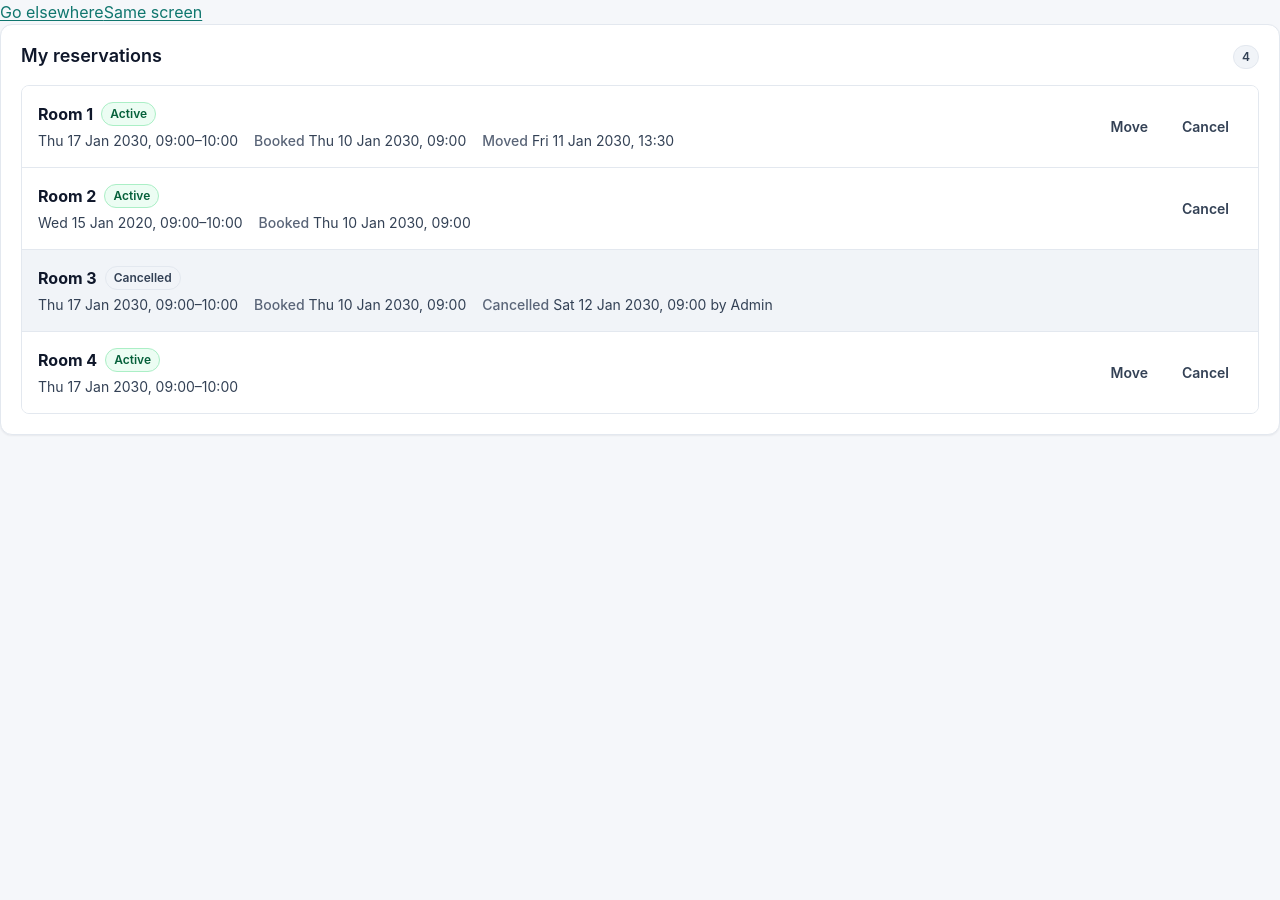
Test: MyReservationsPage › cancels with the version that was shown, and explains a conflict
Expected: the text "Room 1" is shown, [38,102,93,126]
Step 1. Click the button with aria-label "Cancel Room 1" → (1206, 126), box [1169,110,1242,142]
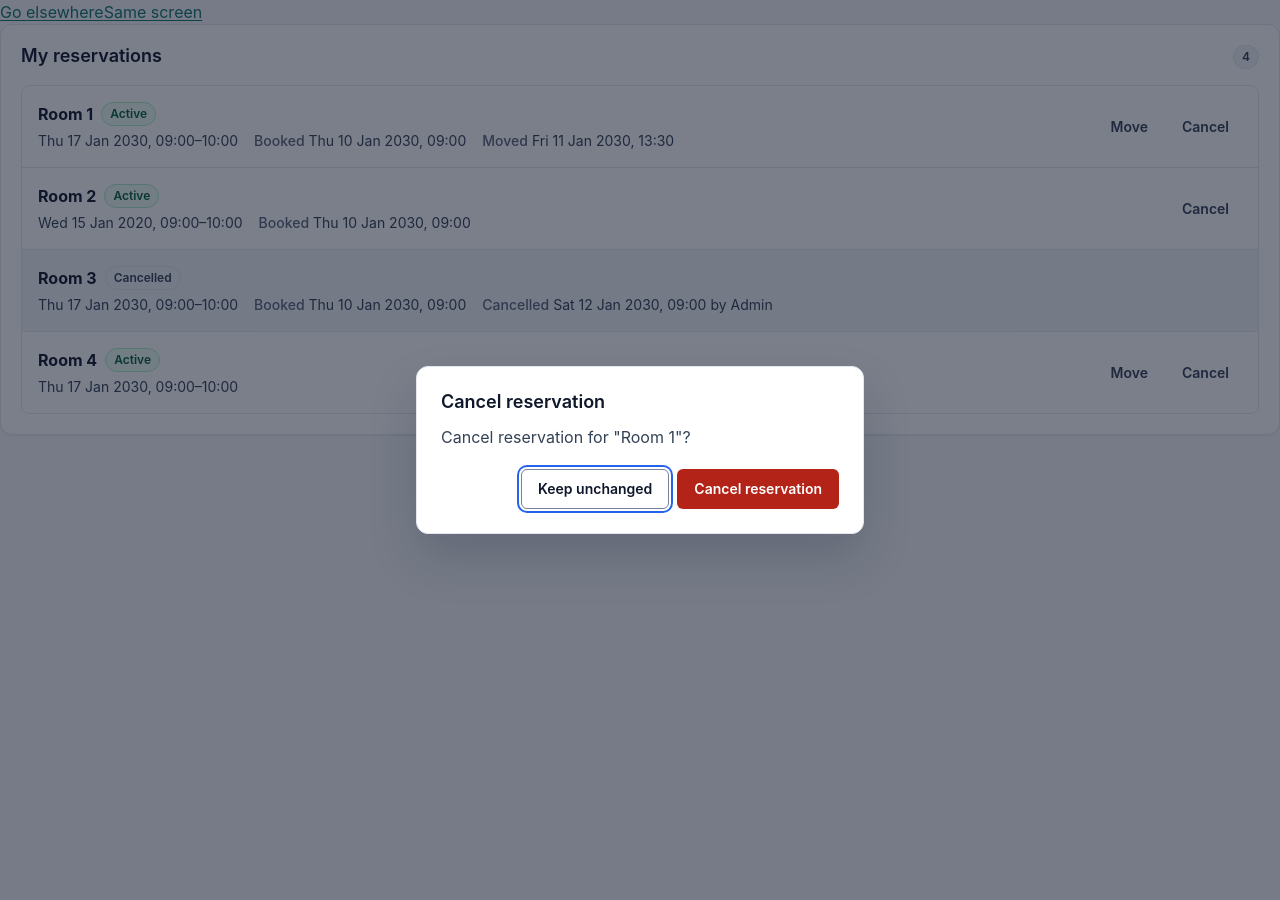
Step 2. Click the button "Cancel reservation" → (758, 489), box [677,469,839,509]
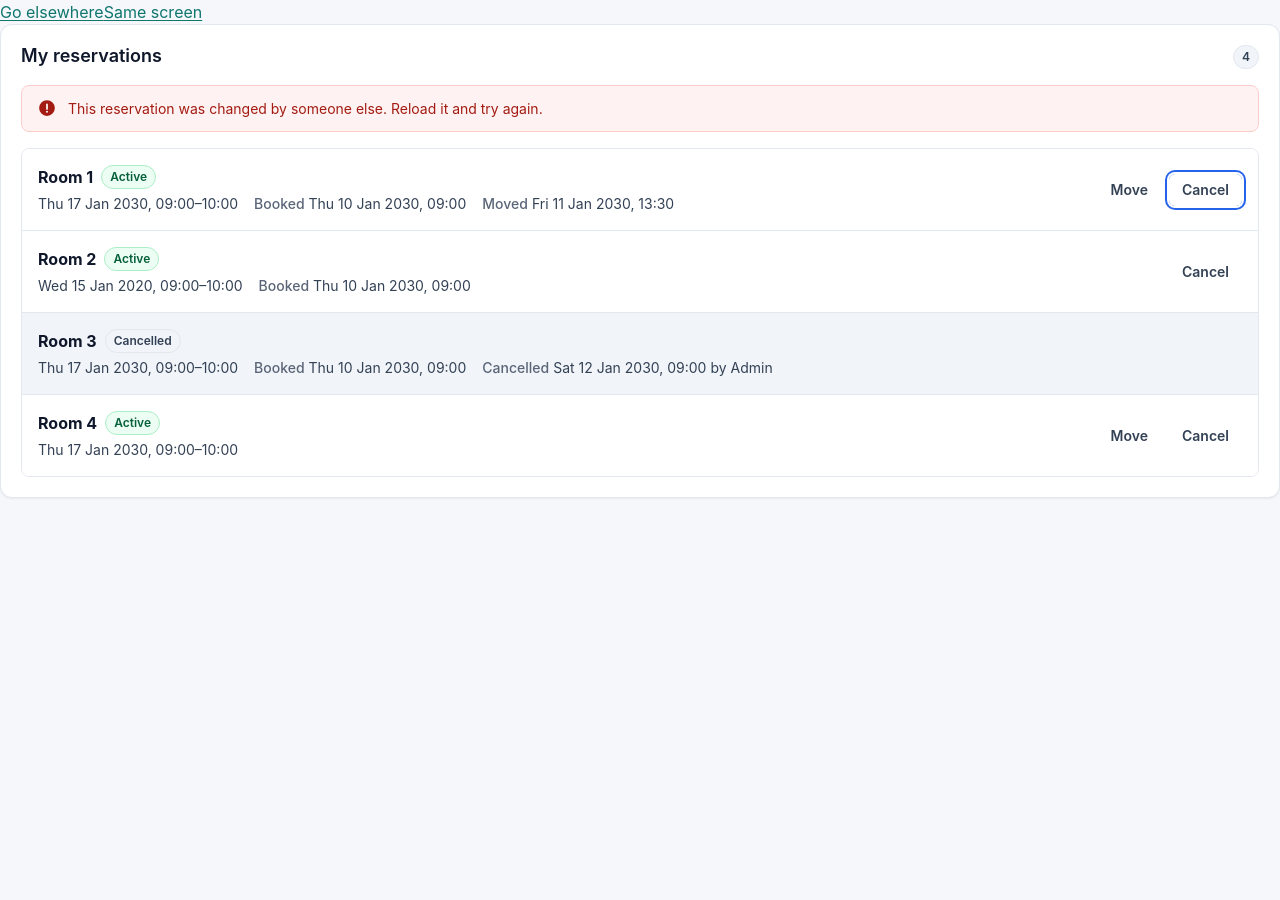
Expected: the text "This reservation was changed by someone else. Reload it and try again." is shown, [68,98,543,119]
